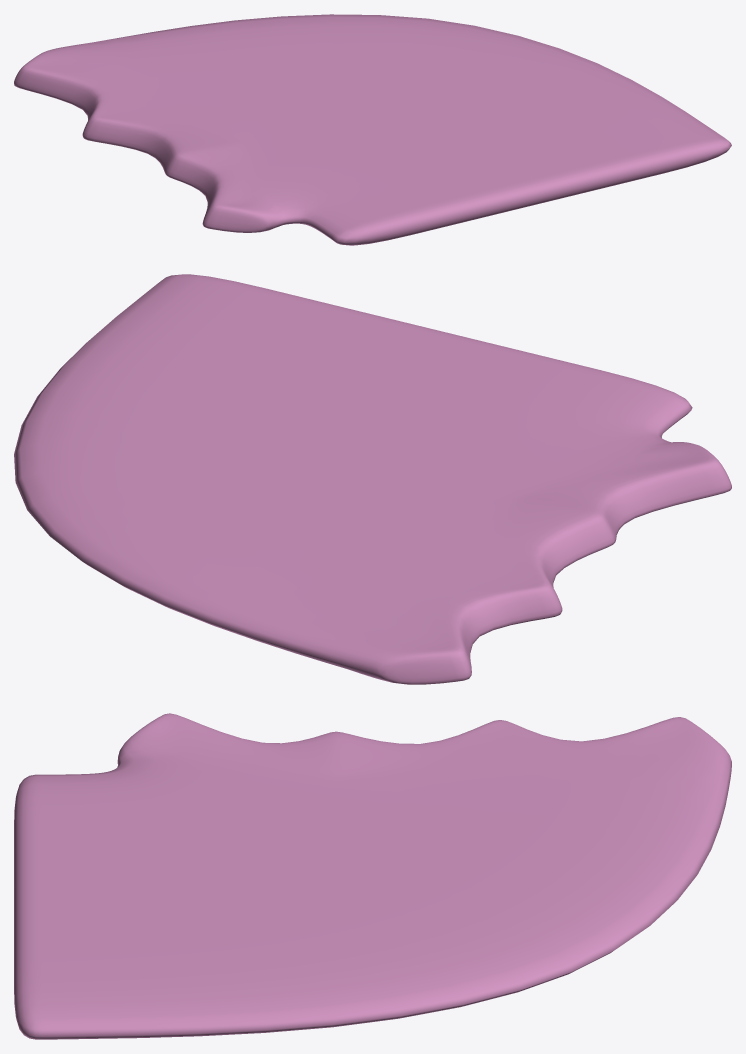
File: CapePieceTurn_TornBack.fbx
The picture shows the model from 3 angles, top to bottom: view 1: azimuth 30°, elevation 25°; view 2: azimuth 150°, elevation 25°; view 3: azimuth 270°, elevation 25°; orthographic projection. The views are drawn at different scales.
Parts seen in each view (by area): view 1: CapePieceTurn_TornBack; view 2: CapePieceTurn_TornBack; view 3: CapePieceTurn_TornBack.
Boxes of the visible parts, <box> form: CapePieceTurn_TornBack: <box>14,14,731,245</box>; CapePieceTurn_TornBack: <box>14,274,731,684</box>; CapePieceTurn_TornBack: <box>14,713,731,1039</box>.
Bounding box in the file's own units: 0.9338 × 0.0479 × 0.9117.
